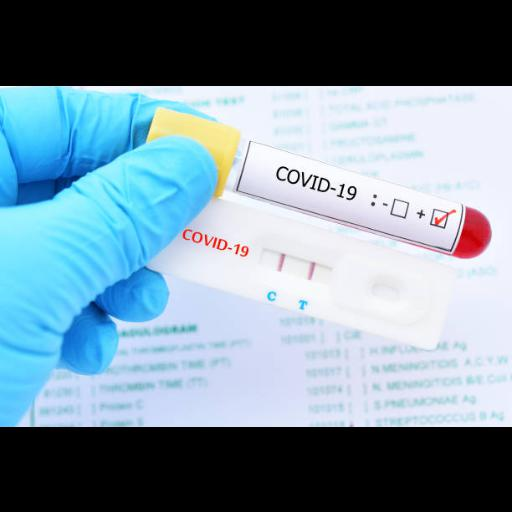Pos: (143, 180, 453, 350)
